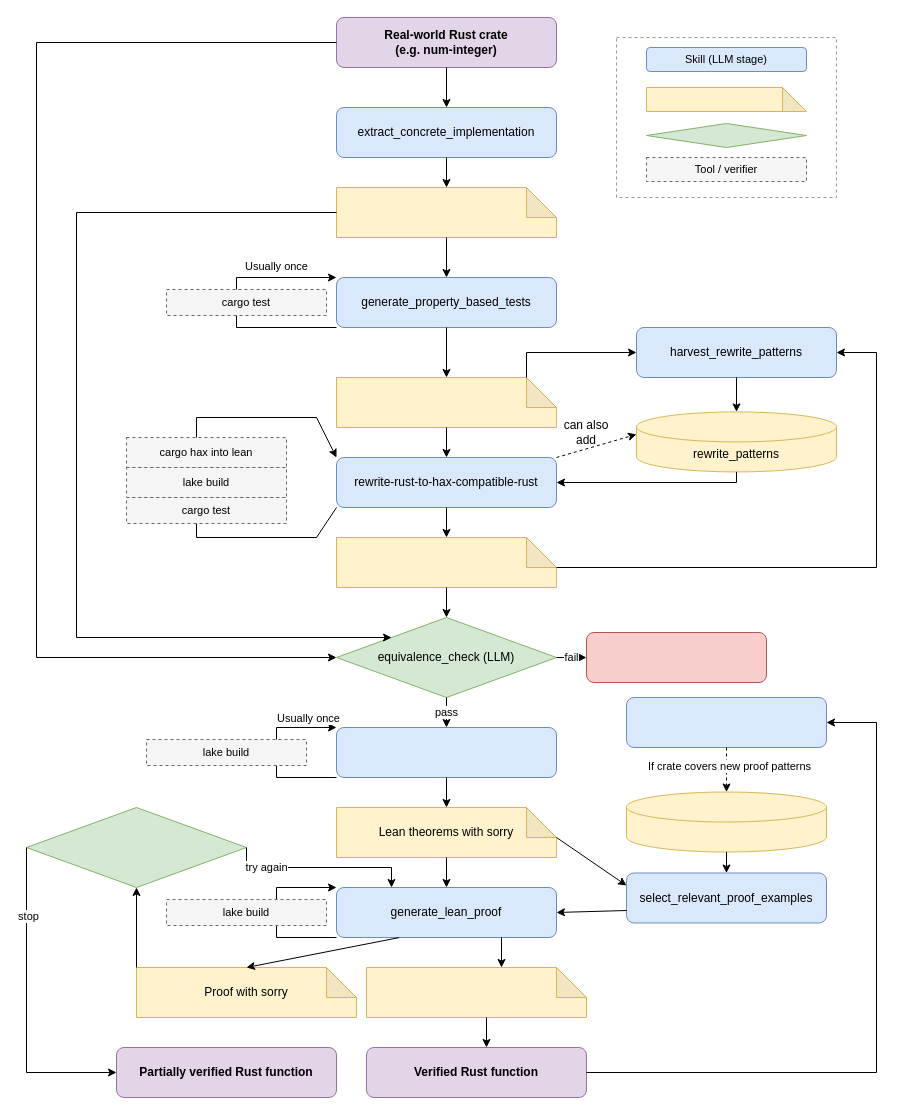
This 902x1115 diagram has some shape labels left out. Here are the shapes that lost their labels. From the top down, the box of each, then its label:
(646, 86, 806, 112): Artifact (file / data)
(646, 122, 806, 148): Decision
(336, 186, 556, 238): Standalone benchmark crate(s)
(336, 376, 556, 428): Rust source + property tests
(336, 536, 556, 588): Hax-compatible Rust + extracted Lean
(586, 632, 766, 682): HALT
(626, 696, 826, 748): harvest_proof_patterns
(336, 726, 556, 778): generate_lean_obligations
(626, 791, 826, 852): proof_patterns
(26, 806, 246, 888): tries: 2
(366, 966, 586, 1018): Closed proof
